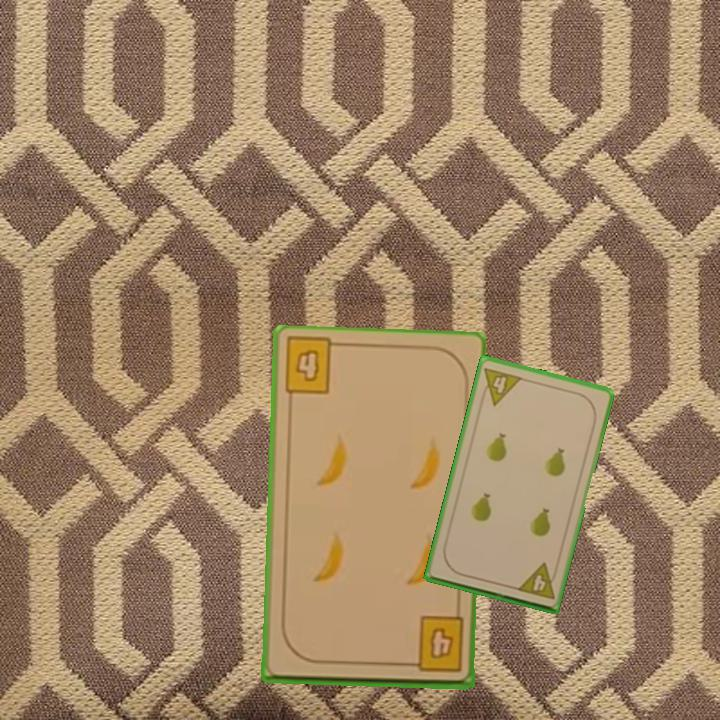4b: (401, 614, 467, 675), (291, 345, 322, 384)
4p: (476, 364, 525, 408), (513, 559, 561, 602)
